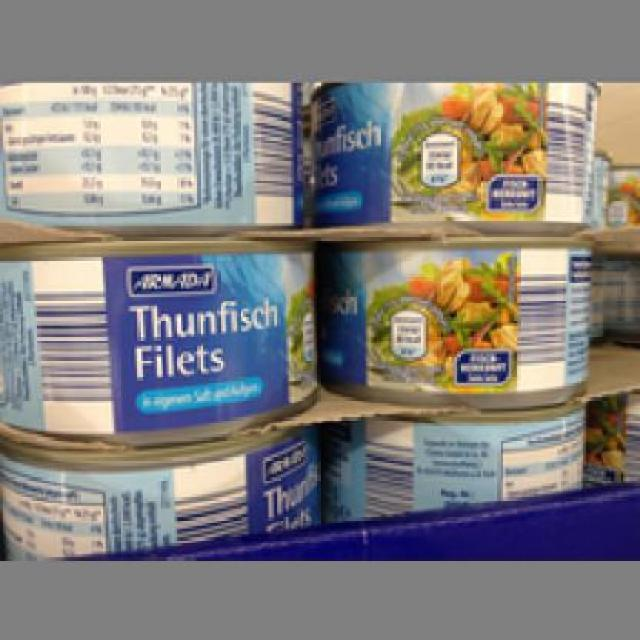Fish: (0, 234, 317, 446), (314, 234, 592, 394), (0, 80, 306, 223), (305, 83, 598, 223), (0, 436, 323, 550), (320, 397, 586, 520)
